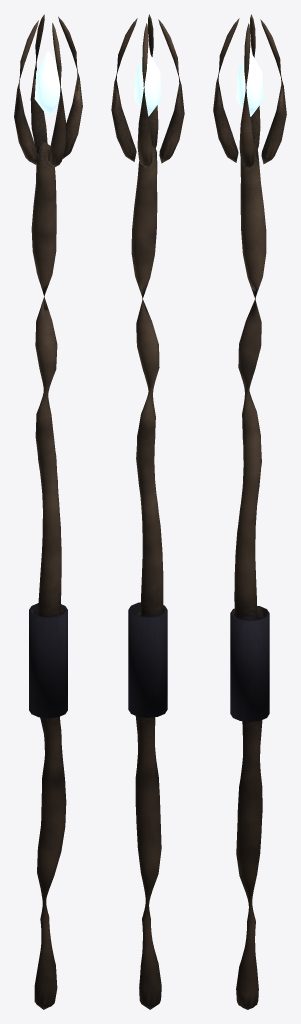
File: mage_staff.fbx
3 views of the same model, side by side, from view 1: azimuth 90°, elevation 25°; view 2: azimuth 150°, elevation 25°; view 3: azimuth 330°, elevation 25° (orthographic).
Visible parts, largest first — view 1: mage_staff; view 2: mage_staff; view 3: mage_staff.
Boxes of the visible parts, x1=… form: mage_staff: x1=14, y1=14, x2=82, y2=1009; mage_staff: x1=111, y1=14, x2=184, y2=1009; mage_staff: x1=213, y1=14, x2=286, y2=1009.
Size of the model in its own units: 0.1125 by 1.78 by 0.1125.
